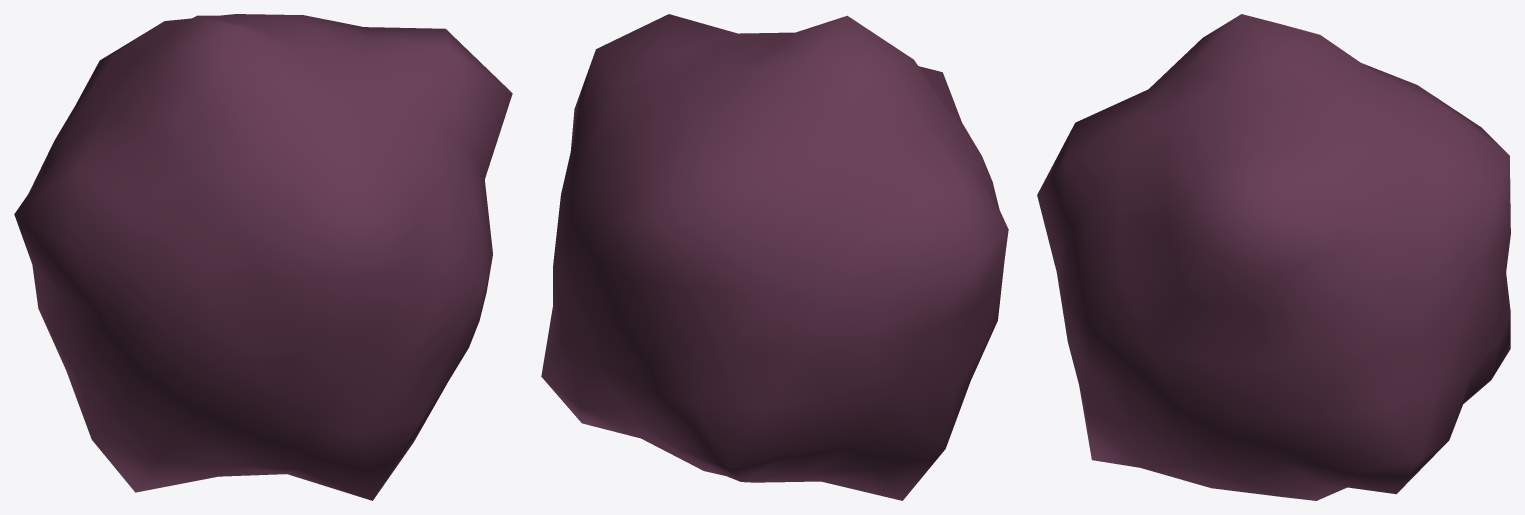
Rendered from star2.5.fbx.
3 views of the same model, side by side, from view 1: azimuth 30°, elevation 25°; view 2: azimuth 150°, elevation 25°; view 3: azimuth 270°, elevation 25° (orthographic). The views are drawn at different scales.
Visible parts, largest first — view 1: Icosphere; view 2: Icosphere; view 3: Icosphere.
Boxes of the visible parts, left/top/right/bottom form: Icosphere: left=14, top=14, right=512, bottom=500; Icosphere: left=541, top=14, right=1008, bottom=500; Icosphere: left=1037, top=14, right=1510, bottom=500.
Bounding box in the file's own units: 54.44 × 54.73 × 52.73.
